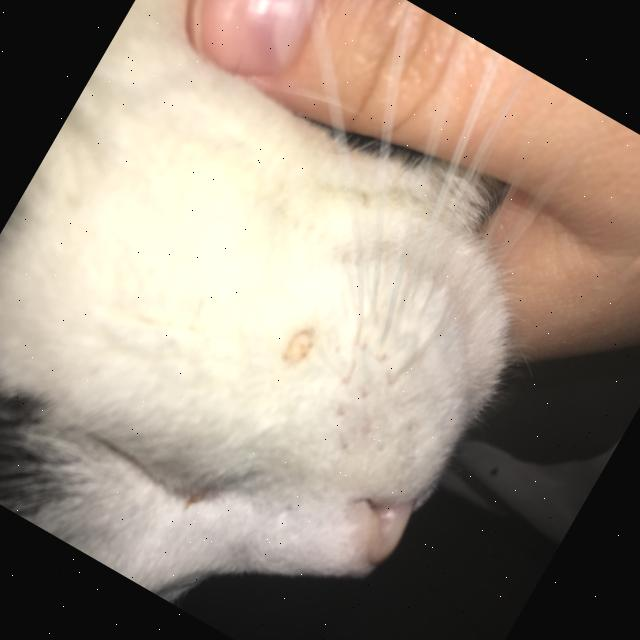cat-dermatitis: (273, 317, 325, 377)
